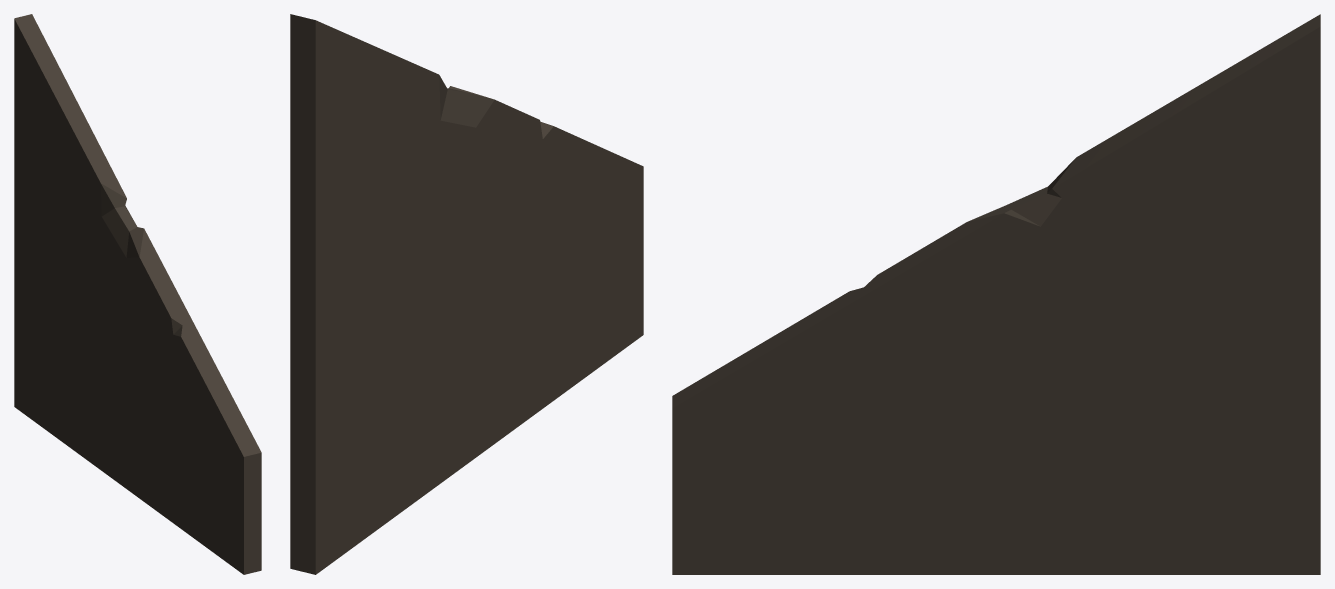
Rendered from SM_Bld_House_Interior_StairsSide_02.fbx.
The picture shows the model from 3 angles, left to right: view 1: azimuth 30°, elevation 25°; view 2: azimuth 150°, elevation 25°; view 3: azimuth 270°, elevation 25°; orthographic projection. The views are drawn at different scales.
Parts seen in each view (by area): view 1: SM_Bld_House_Interior_StairsSide_02; view 2: SM_Bld_House_Interior_StairsSide_02; view 3: SM_Bld_House_Interior_StairsSide_02.
Boxes of the visible parts, box(x1,y1,x2,y2) form: SM_Bld_House_Interior_StairsSide_02: box(14, 14, 261, 574); SM_Bld_House_Interior_StairsSide_02: box(290, 14, 643, 574); SM_Bld_House_Interior_StairsSide_02: box(672, 14, 1320, 574).
Bounding box in the file's own units: 11.22 × 233 × 250.
